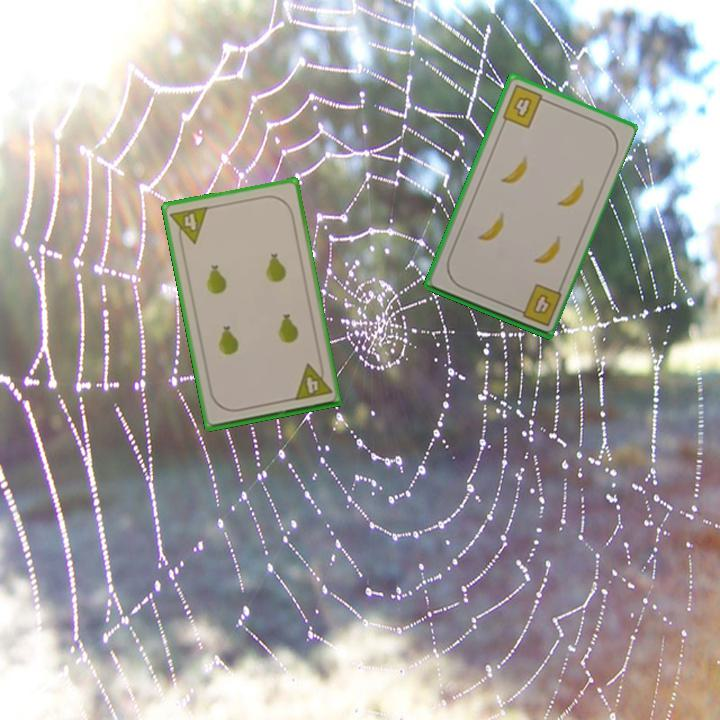4b: (498, 81, 551, 131), (511, 280, 564, 329)
4p: (167, 202, 211, 249), (290, 359, 334, 403)
